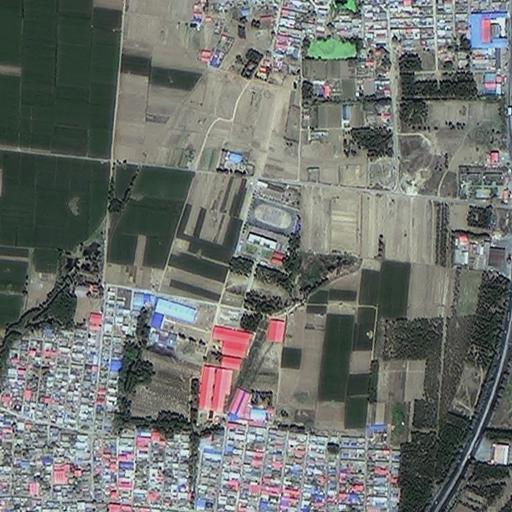school: (233, 195, 302, 267)
